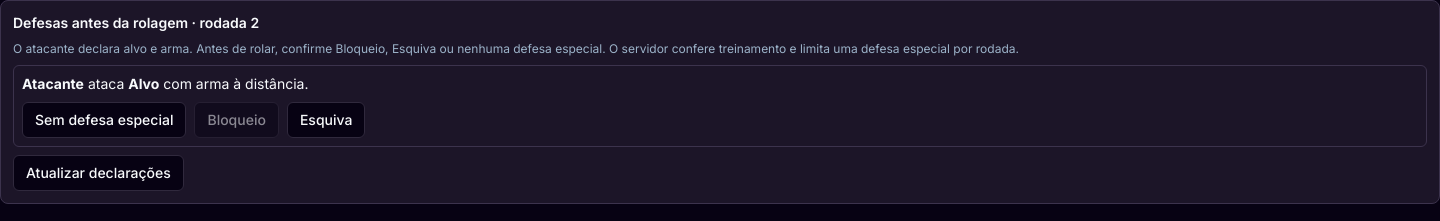
Test: escolha de defesa antes da rolagem › registra nenhuma defesa e libera rolagem apenas após confirmação
Expected: the button "Bloqueio" is disabled, [194,102,279,138]
Click the button "Sem defesa especial". click: (104, 120)
box: [22,102,186,138]
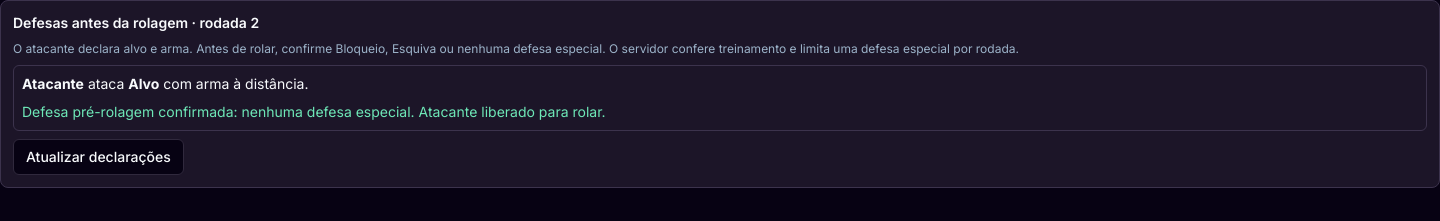
Result: the message shows "Atacante liberado para rolar" at [411,103,606,120]
